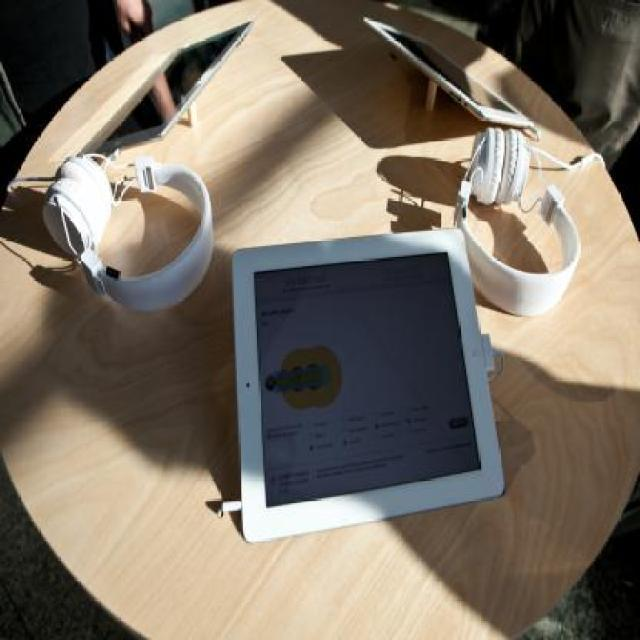earphone: (462, 133, 595, 290), (48, 164, 210, 288)
tablet: (223, 232, 467, 548), (357, 13, 533, 128), (87, 20, 260, 135)
